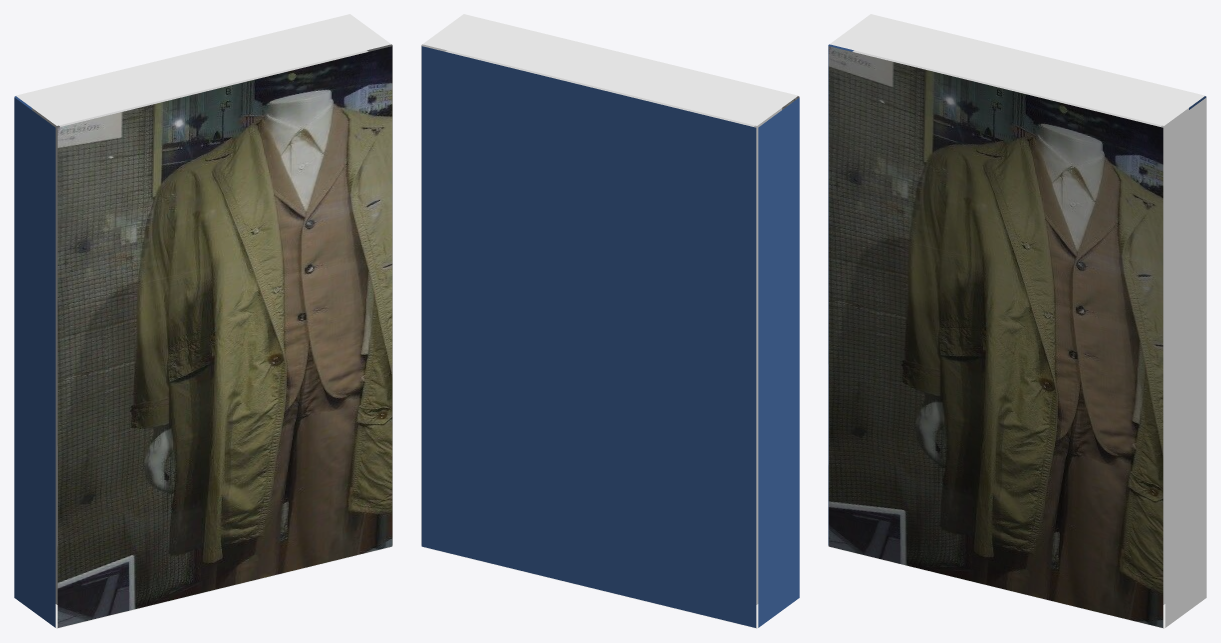
File: Colombo.glb
3 renders of one model, left to right at view 1: azimuth 30°, elevation 25°; view 2: azimuth 150°, elevation 25°; view 3: azimuth 330°, elevation 25°, orthographic.
Visible parts, largest first — view 1: Livre_Couverture_Avant, Livre_Dos, Tranche_Haut, Livre_Pages, Tranche_Droite; view 2: Livre_Couverture_Arriere, Livre_Dos, Tranche_Haut, Livre_Pages, Tranche_Droite; view 3: Livre_Couverture_Avant, Tranche_Droite, Tranche_Haut, Livre_Pages, Livre_Dos.
Boxes of the visible parts, x1,y1,x2,y2 form: Livre_Couverture_Avant: (57, 46, 392, 627); Livre_Dos: (14, 97, 55, 627); Tranche_Haut: (16, 14, 390, 125); Livre_Pages: (32, 50, 368, 604); Tranche_Droite: (367, 44, 392, 545); Livre_Couverture_Arriere: (421, 46, 756, 627); Livre_Dos: (758, 97, 799, 627); Tranche_Haut: (423, 14, 797, 125); Livre_Pages: (445, 50, 781, 604); Tranche_Droite: (421, 44, 446, 545); Livre_Couverture_Avant: (828, 46, 1163, 627); Tranche_Droite: (1165, 97, 1206, 627); Tranche_Haut: (830, 14, 1204, 125); Livre_Pages: (852, 50, 1188, 604); Livre_Dos: (828, 44, 853, 545).
Bounding box in the file's own units: 1.41 × 2.01 × 0.31.
Materials: 7 (1 with a texture image).
